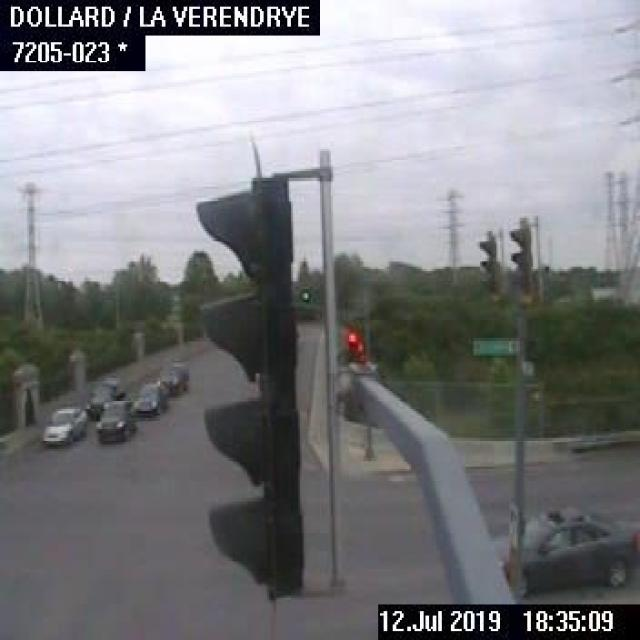vehicle: (491, 508, 638, 596), (40, 401, 89, 445), (94, 397, 135, 444), (154, 358, 190, 398), (127, 379, 163, 418), (91, 374, 121, 404)
